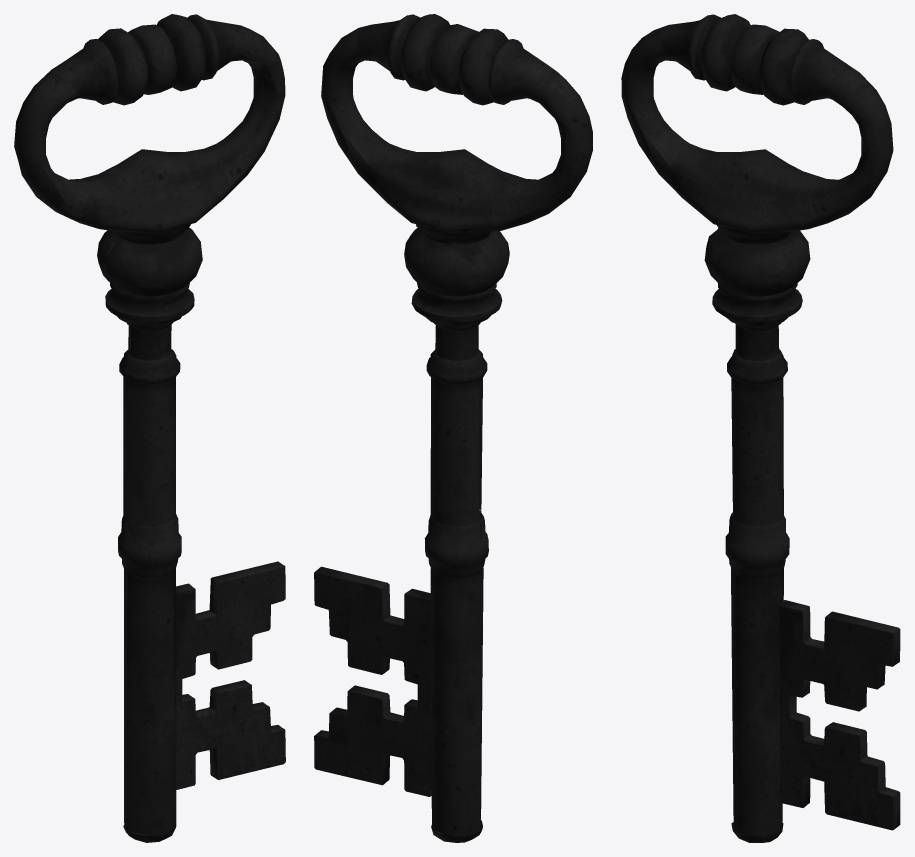
Rendered from key_05_silver_skeleton.glb.
3 views of the same model, side by side, from view 1: azimuth 30°, elevation 25°; view 2: azimuth 150°, elevation 25°; view 3: azimuth 330°, elevation 25° (orthographic).
Visible parts, largest first — view 1: Key; view 2: Key; view 3: Key.
Part boxes in pixels (box(x1,y1,x2,y2)): Key: box(14, 14, 285, 842); Key: box(314, 14, 592, 842); Key: box(621, 14, 900, 842).
Bounding box in the file's own units: 0.0521 × 0.15 × 0.0179.
Materials: 1 (1 with a texture image).
